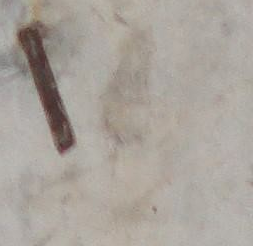Exposed reinforcement: (17, 27, 75, 156)
